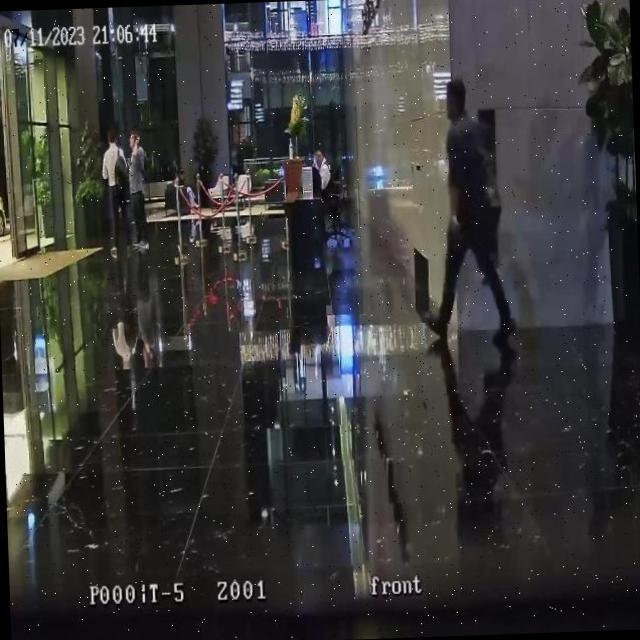person: (414, 76, 517, 347), (102, 127, 130, 256), (126, 130, 149, 253), (173, 167, 200, 216), (312, 148, 331, 190)
